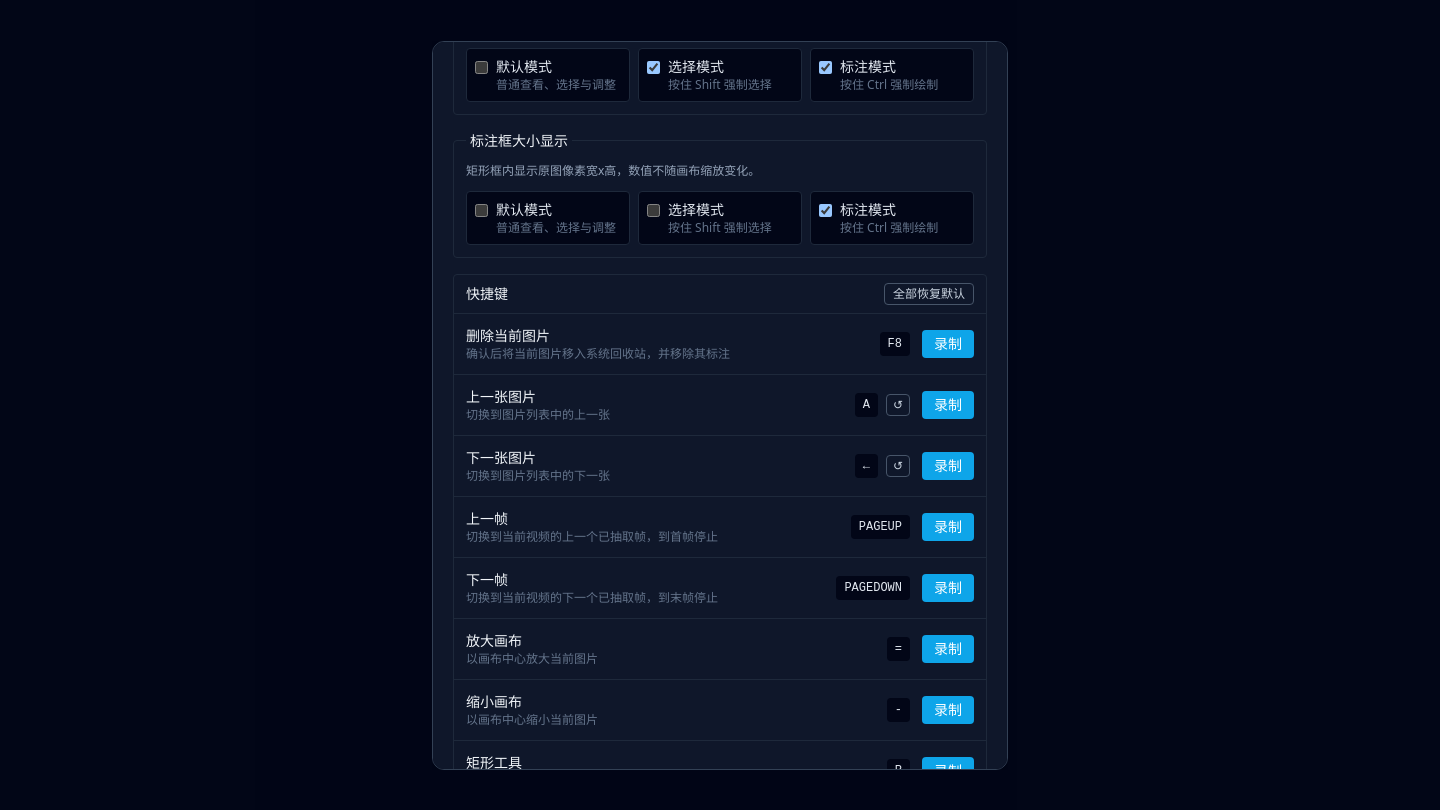
Test: rejects restoring one action when its default key belongs to another action
(page scrolled)
Click the button "↺" in the row of "切换到图片列表中的上一张".
click(898, 404)  # box [886,394,910,416]
(page scrolled)
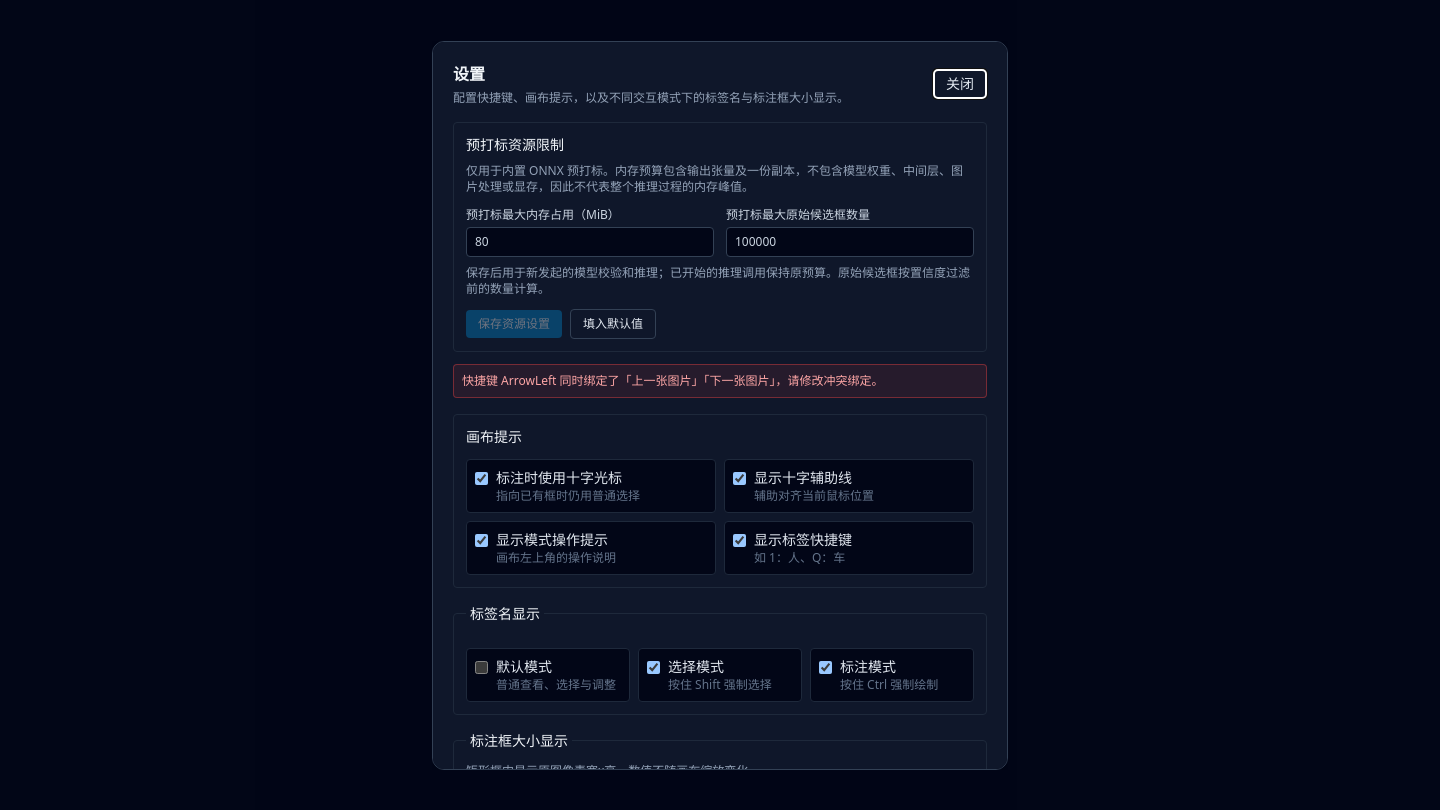
Now the message "快捷键 ArrowLeft 同时绑定了「上一张图片」「下一张图片」，请修改冲突绑定。" is shown, box [453,364,987,398]
